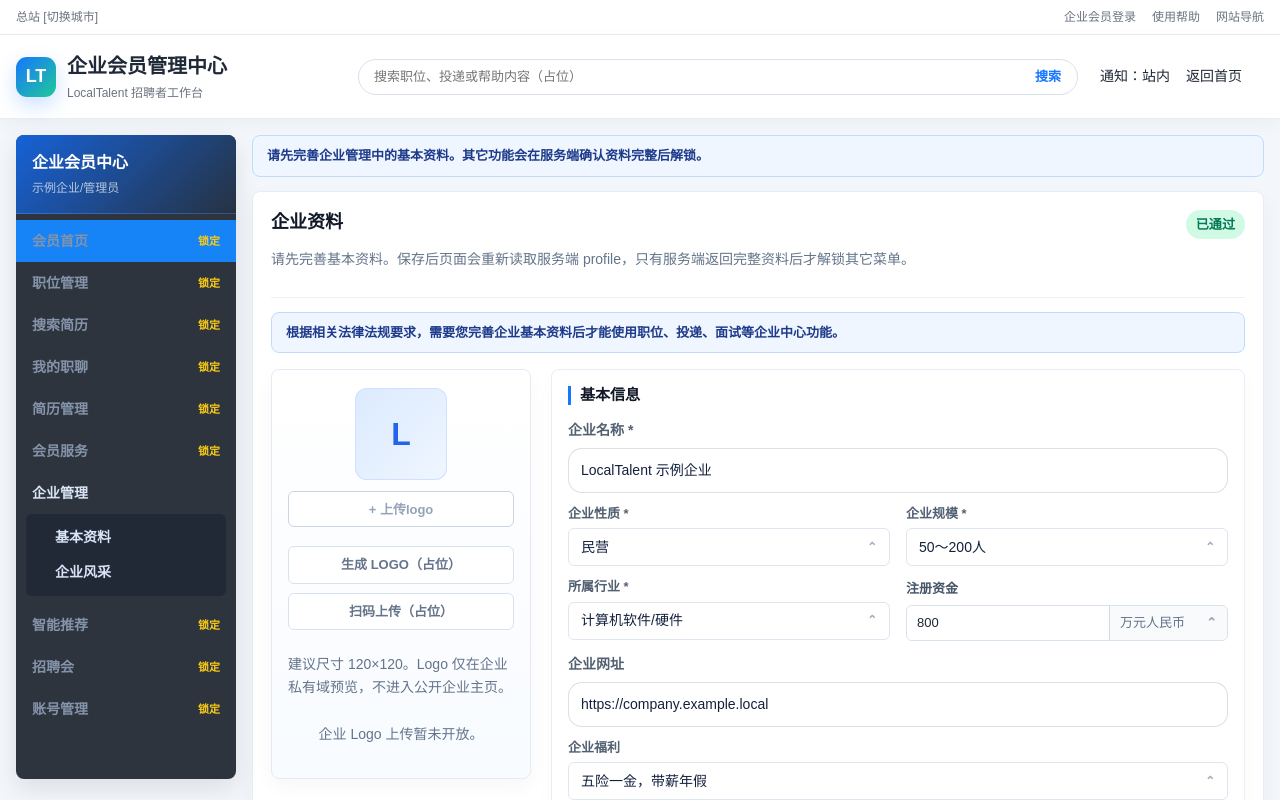
Test: CompanyDashboard › renders a single disabled company style upload entry when feature is closed
The width and height of the screenshot is (1280, 800).
Expected: the heading "企业资料" is shown, 271,212 -> 343,232
Click the button "企业风采" at (126, 572), box 26,555 -> 226,590
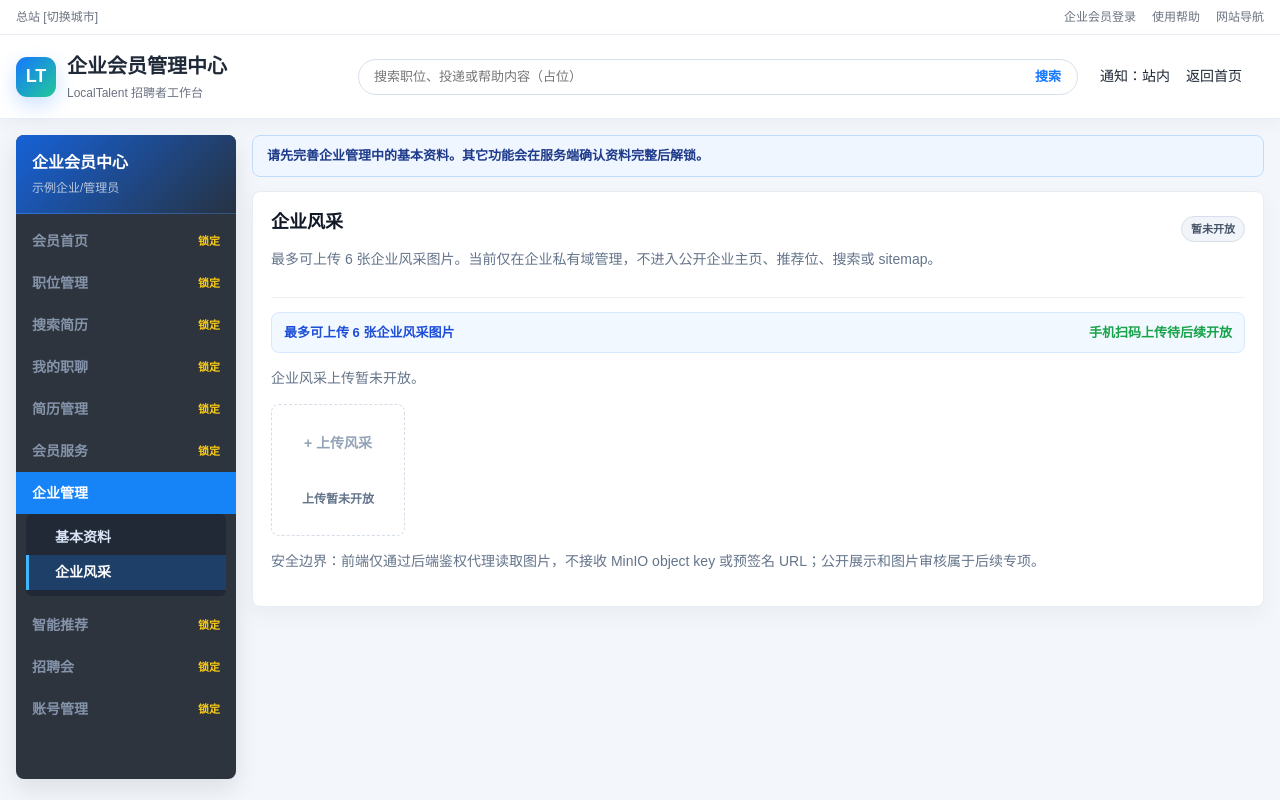
Expected: the text "+ 上传风采" is shown once, 304,433 -> 372,454
Expected: the text "上传暂未开放" is shown, 302,490 -> 374,508
Expected: the text "暂未开放" is shown, 1181,216 -> 1245,242
